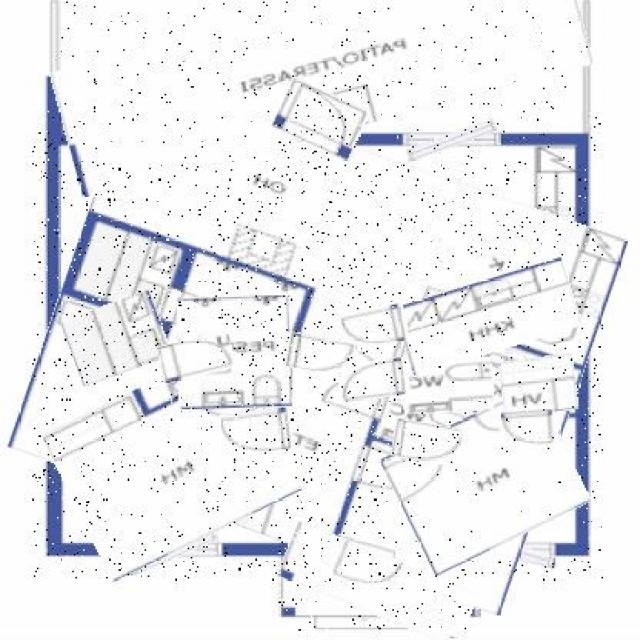door: (277, 84, 366, 154), (328, 538, 394, 596), (158, 334, 234, 380), (222, 409, 290, 454), (337, 306, 408, 349), (392, 422, 462, 464), (284, 336, 356, 376), (338, 360, 408, 400), (501, 411, 554, 449)
window: (108, 123, 268, 155), (126, 534, 220, 566), (404, 126, 498, 154), (460, 539, 557, 563)
zone: (32, 109, 603, 580), (52, 0, 588, 165), (54, 363, 289, 563), (390, 400, 582, 560), (278, 540, 477, 632), (397, 269, 578, 365), (178, 297, 292, 408), (64, 297, 168, 380), (401, 358, 494, 414), (500, 357, 577, 415)
